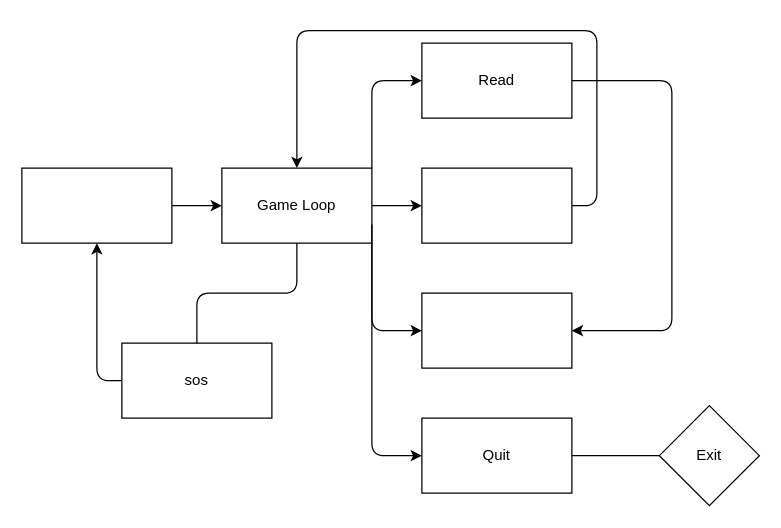
Image size: 781x528. Some labels were removed from this diagram. The centre of each missing label's shape, as x and y in pixels:
"Menu" goes at point (96, 205).
"Plant" goes at point (496, 330).
"Trigger" goes at point (496, 205).
